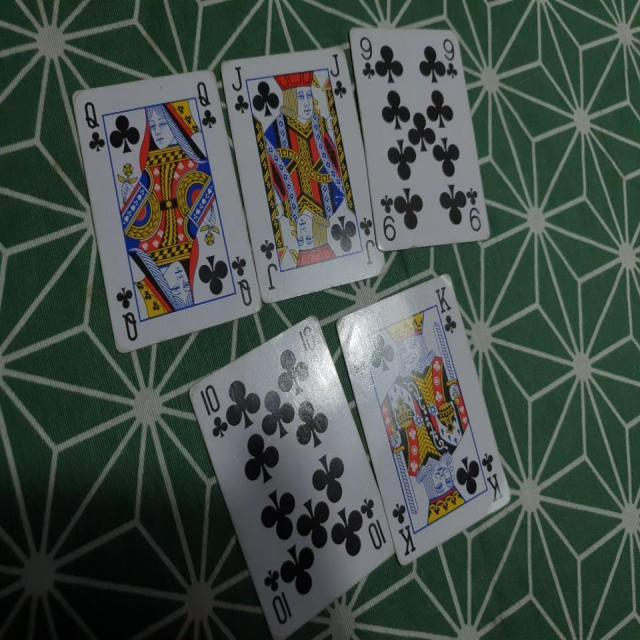10 of clubs: (188, 312, 394, 640)
9 of clubs: (346, 24, 488, 255)
jack of clubs: (218, 45, 388, 304)
king of clubs: (334, 273, 514, 568)
queen of clubs: (70, 66, 263, 353)
